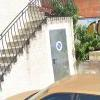stairs: (0, 16, 47, 82)
